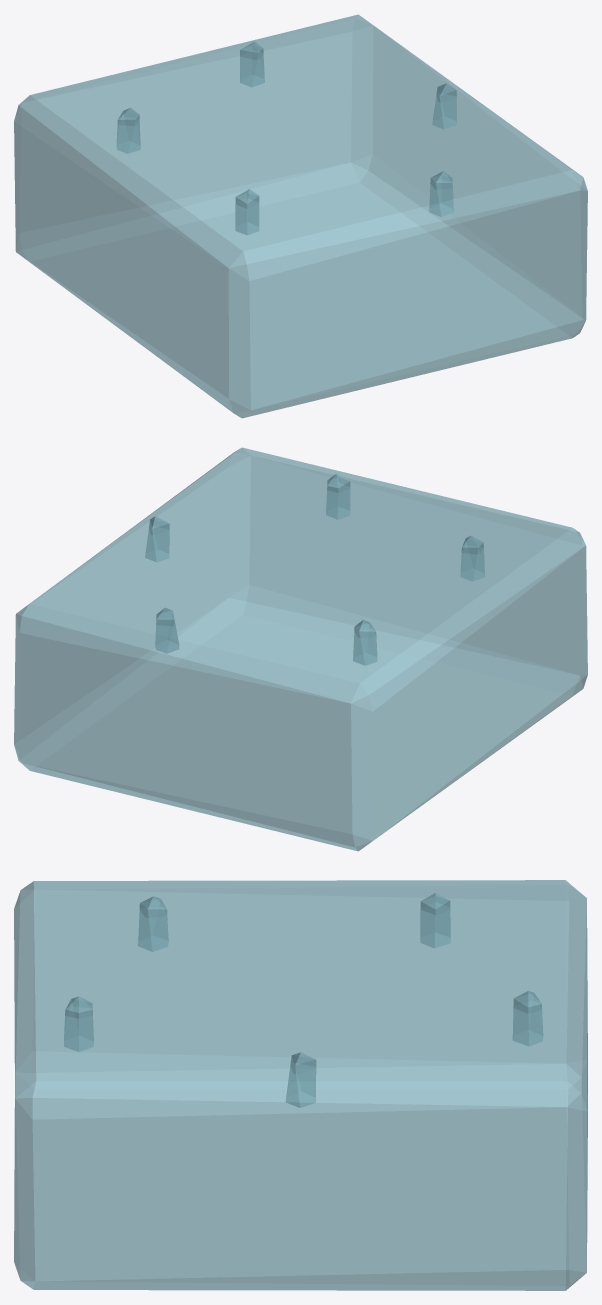
Rendered from frost_shell_low.glb.
3 renders of one model, top to bottom at view 1: azimuth 30°, elevation 25°; view 2: azimuth 150°, elevation 25°; view 3: azimuth 270°, elevation 25°, orthographic. The views are drawn at different scales.
Parts seen in each view (by area): view 1: Smoked_crystal; view 2: Smoked_crystal; view 3: Smoked_crystal.
Part boxes in pixels (x1,y1,x2,y2): Smoked_crystal: [14, 14, 587, 418]; Smoked_crystal: [14, 447, 587, 851]; Smoked_crystal: [14, 880, 587, 1290].
Size of the model in its own units: 0.9996 by 0.4837 by 1.11.
